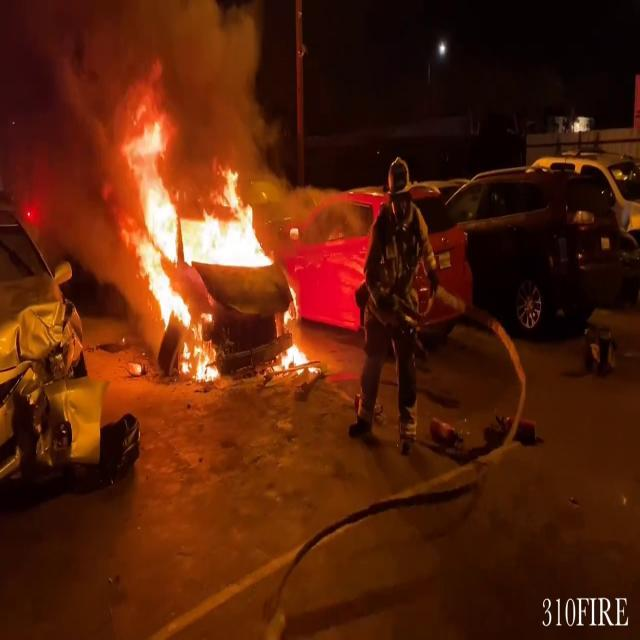Fire: (110, 102, 302, 380)
Smoke: (0, 0, 274, 235)
